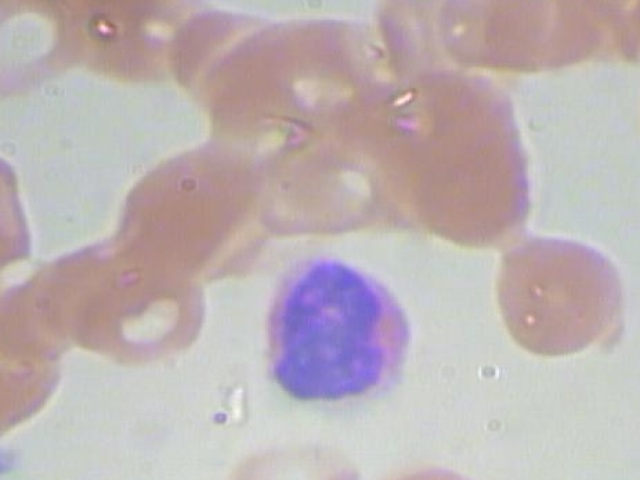Platelets: (0, 442, 23, 477)
RBC: (470, 222, 640, 361), (68, 262, 223, 381), (406, 128, 562, 246), (238, 128, 393, 246), (0, 0, 101, 103), (478, 0, 611, 77), (213, 424, 368, 480), (0, 147, 50, 280), (0, 338, 28, 451), (626, 48, 640, 167)
WBC: (250, 249, 428, 423)
